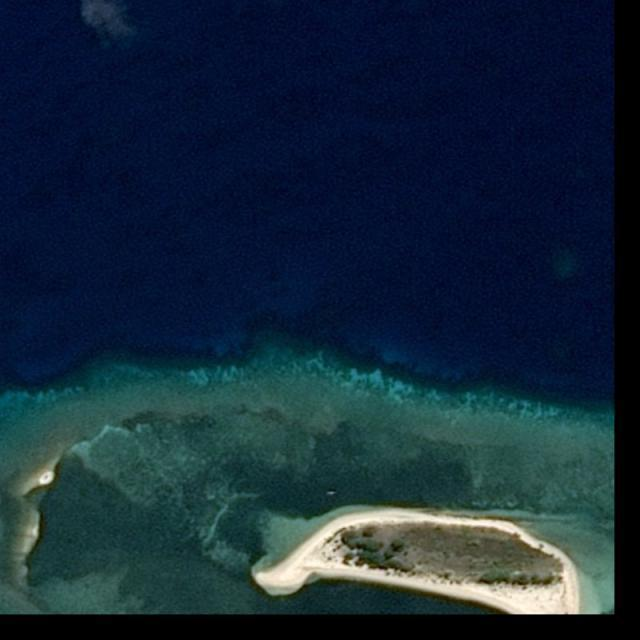ship: (327, 490, 336, 496)
